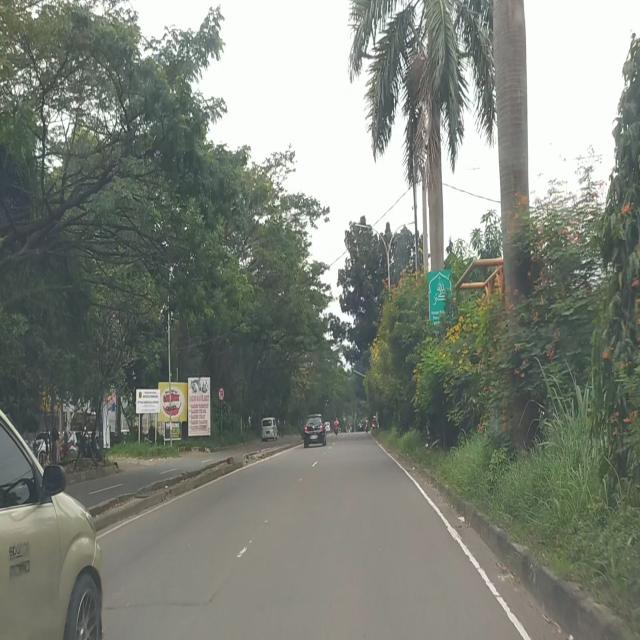Sewer Cover: (102, 596, 202, 614)
